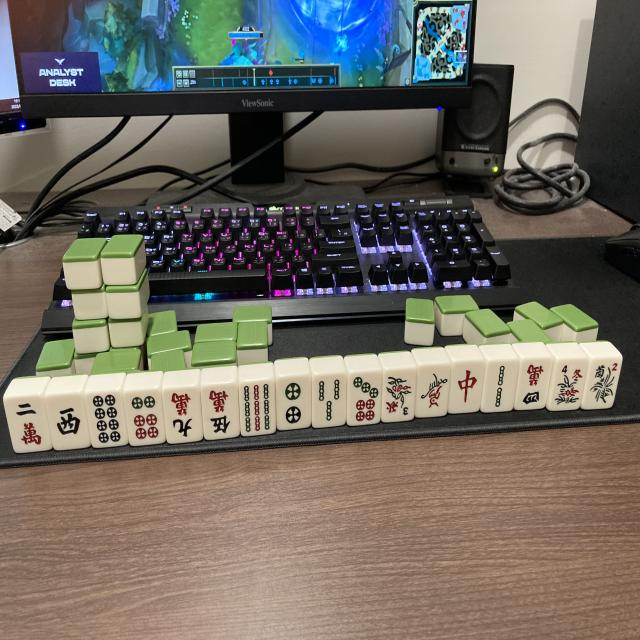f2: (582, 360, 622, 410)
ff3: (380, 372, 415, 422)
ff4: (548, 360, 589, 412)
m2: (5, 396, 52, 453)
m4: (515, 358, 554, 409)
m5: (202, 385, 240, 439)
m9: (164, 388, 202, 443)
s1: (415, 366, 451, 416)
s2: (481, 362, 518, 413)
s3: (313, 373, 349, 426)
s9: (239, 380, 276, 436)
t2: (275, 376, 310, 429)
t6: (125, 391, 164, 446)
t7: (347, 372, 382, 424)
t8: (86, 392, 127, 447)
west: (46, 394, 92, 449)
zhong: (448, 361, 485, 413)
